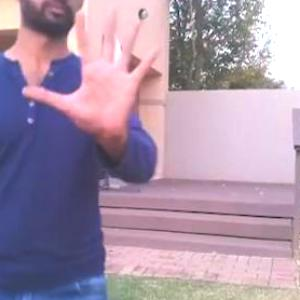follow_hand: (21, 3, 165, 140)
